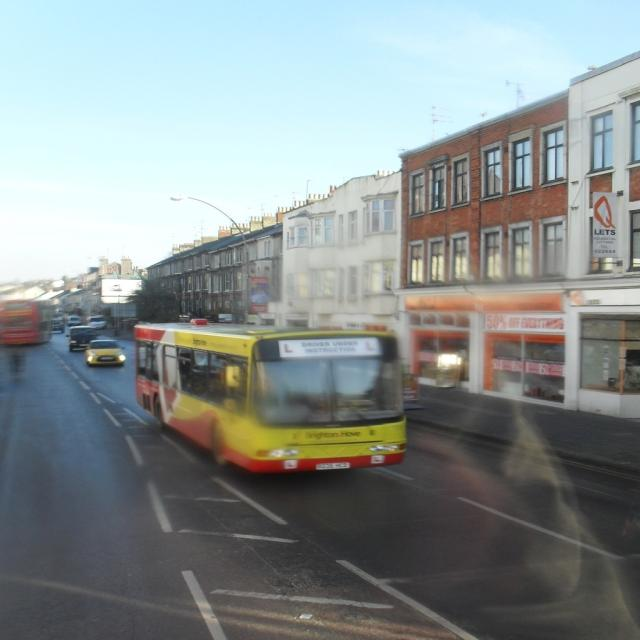car: (82, 338, 127, 367)
